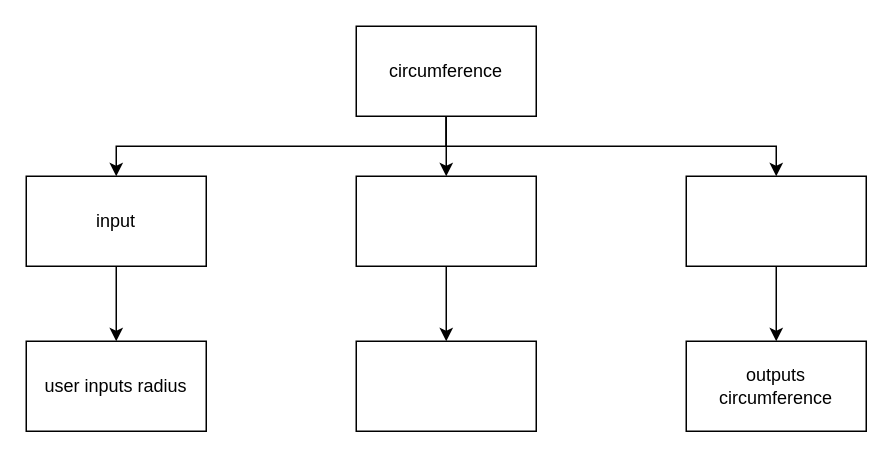
Some shapes in this 893 by 458 pixel diagram are drawn without their labels. The box of each missing label's shape, as (x1, y1, x2, y2) in pixels:
output: (685, 175, 866, 266)
process: (355, 175, 536, 266)
